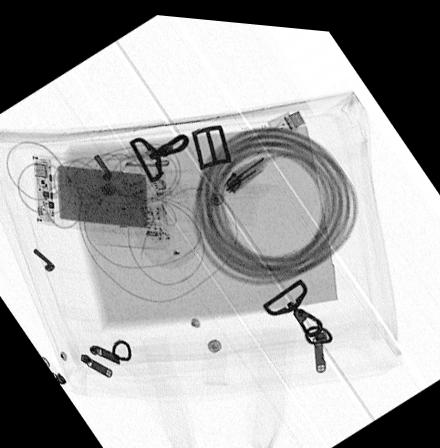Powerbank: (32, 149, 169, 238)
